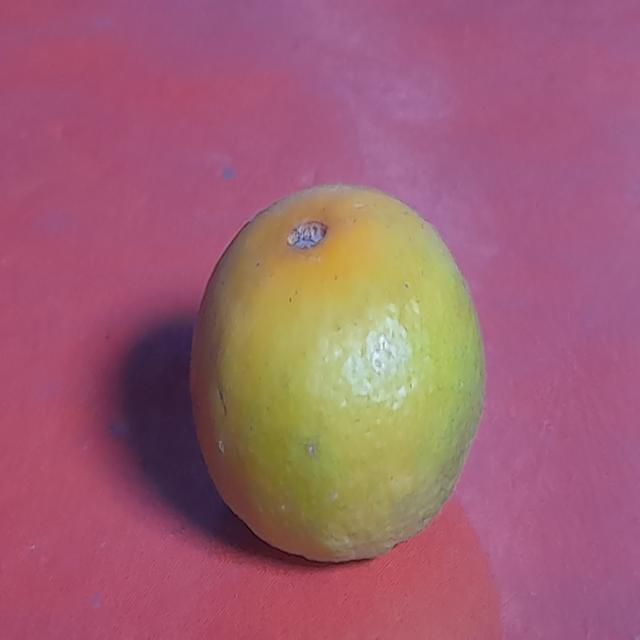greening: (188, 182, 491, 570)
